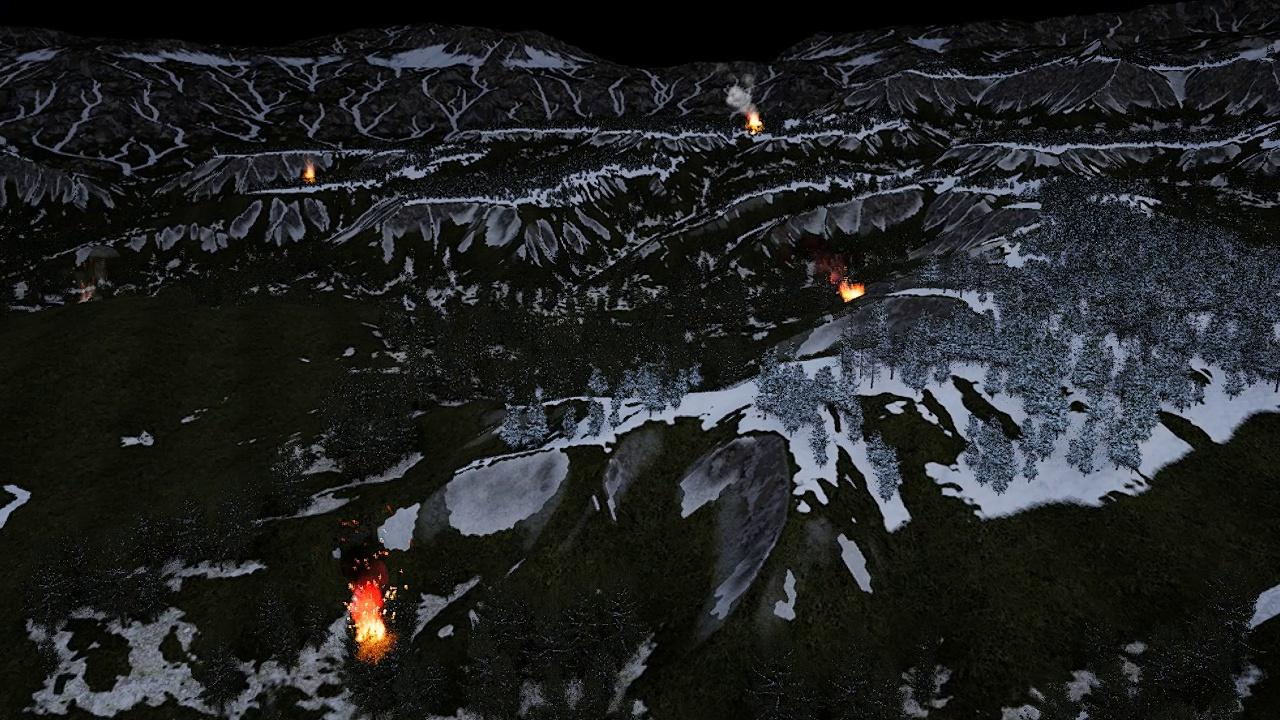fire: (349, 581, 390, 648), (840, 282, 865, 299), (749, 112, 764, 131), (301, 163, 315, 182)
smoke: (721, 67, 756, 114)
